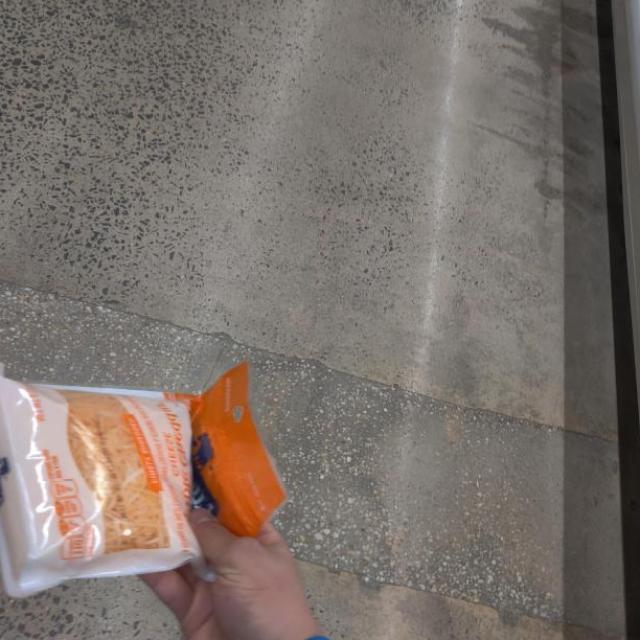Cheese: (0, 364, 291, 598)
